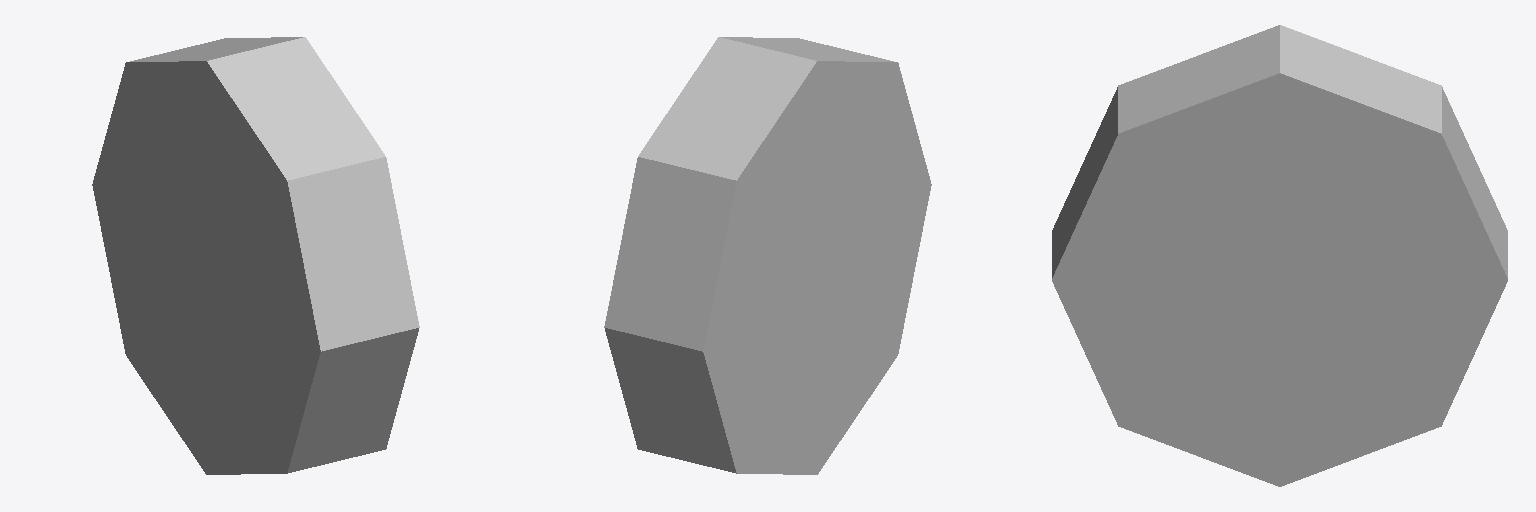
Rendered from wheel.obj.
3 views of the same model, side by side, from view 1: azimuth 30°, elevation 25°; view 2: azimuth 150°, elevation 25°; view 3: azimuth 270°, elevation 25° (orthographic).
Bounding box in the file's own units: 0.5 × 2 × 2.